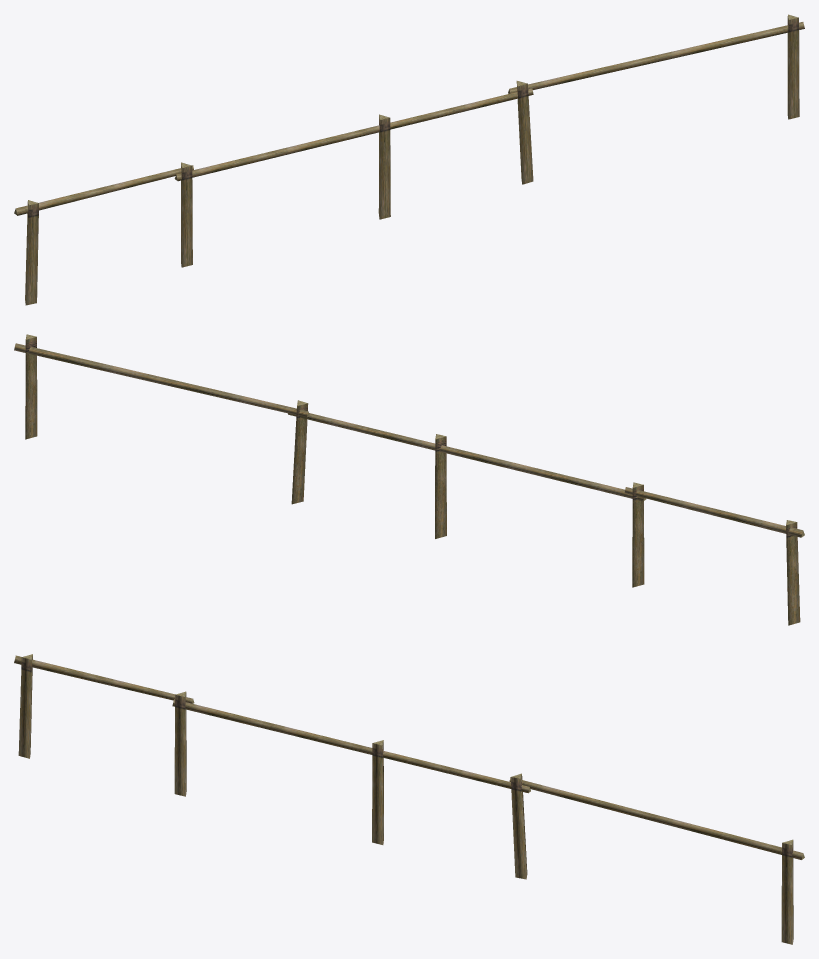
File: thm_endr_lake_rail8m_l2.fbx
3 views of the same model, one above another, from view 1: azimuth 30°, elevation 25°; view 2: azimuth 150°, elevation 25°; view 3: azimuth 330°, elevation 25° (orthographic).
Visible parts, largest first — view 1: mesh_node; view 2: mesh_node; view 3: mesh_node.
Boxes of the visible parts, bbox=[...] form: mesh_node: bbox=[14, 14, 804, 305]; mesh_node: bbox=[14, 334, 804, 625]; mesh_node: bbox=[14, 654, 804, 944].
Size of the model in its own units: 7.97 by 0.9661 by 0.1174.
Materials: 1 (1 with a texture image).
